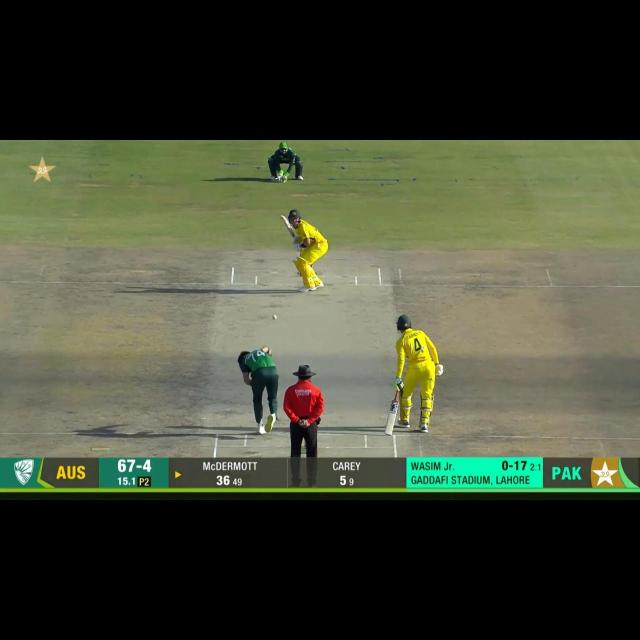bat: (384, 401, 398, 435), (279, 215, 296, 238)
toe: (385, 426, 394, 436), (279, 214, 287, 220)
